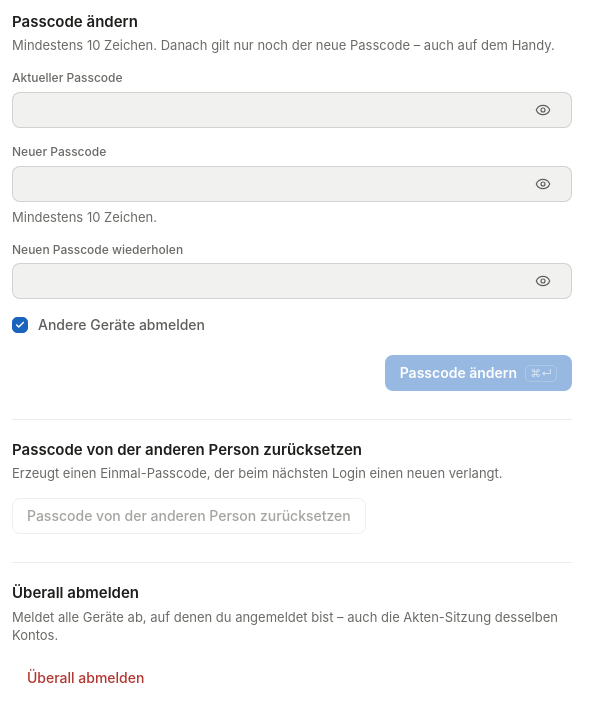
it: Passcode › neuer Passcode gleich dem alten → Fehler
Type "gleichgleich12" into the password field labelled "Aktueller Passcode".
click(272, 110); type("gleichgleich12")  # box [25,93,519,127]
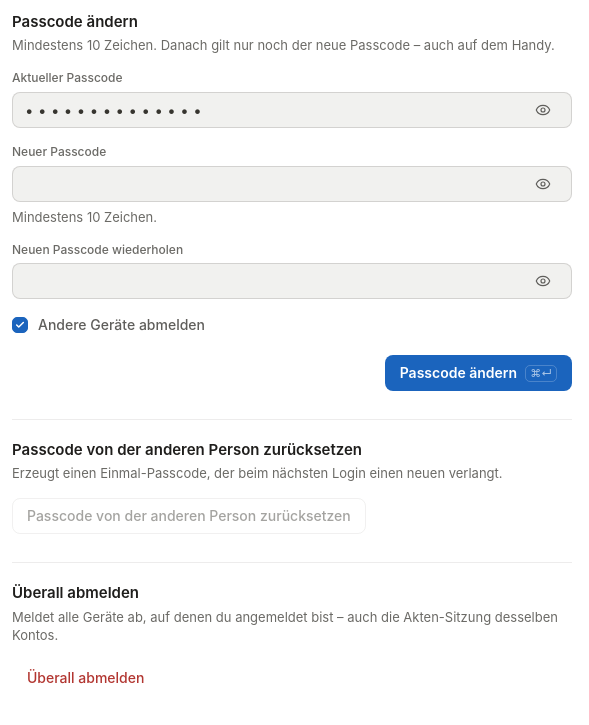
Type "gleichgleich12" into the password field labelled "Neuer Passcode".
click(272, 184); type("gleichgleich12")  # box [25,167,519,201]
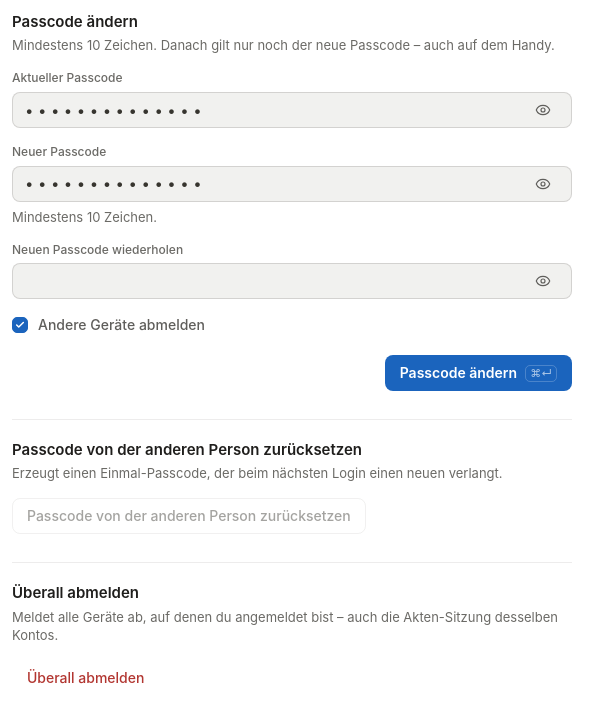
Type "gleichgleich12" into the password field labelled "Neuen Passcode wiederholen".
click(272, 281); type("gleichgleich12")  # box [25,264,519,298]
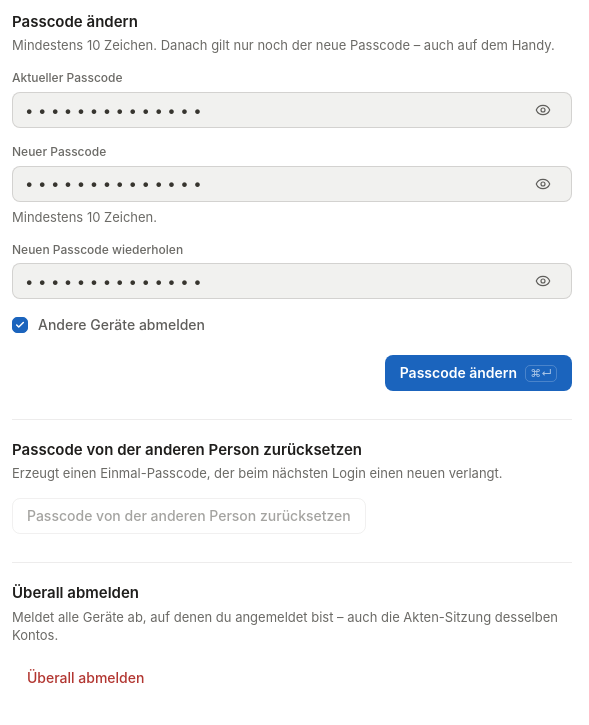
Click the button "Passcode ändern ⌘↵".
click(478, 373)  # box [385,355,572,391]
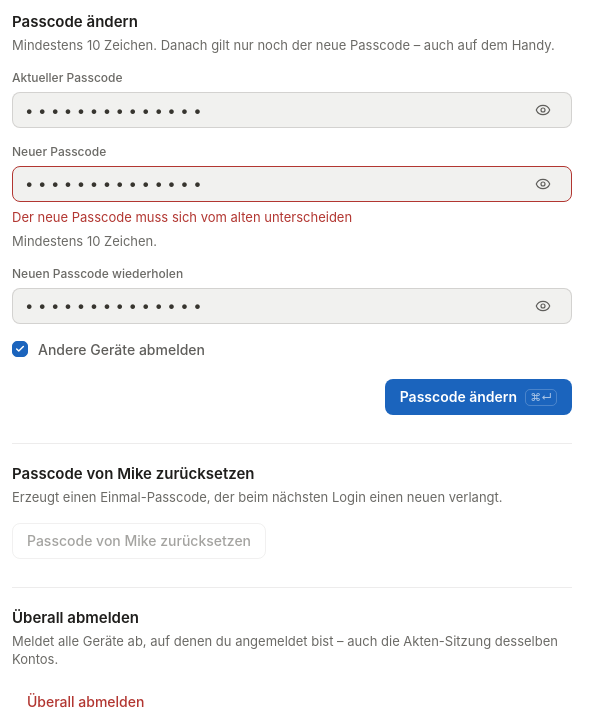
Now the message shows "unterscheiden", box [12,209,352,225]
